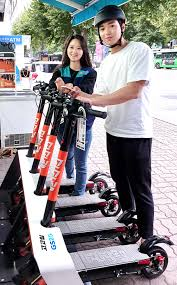kick_wheel: (142, 250, 167, 279), (102, 194, 120, 216), (89, 180, 106, 194)
